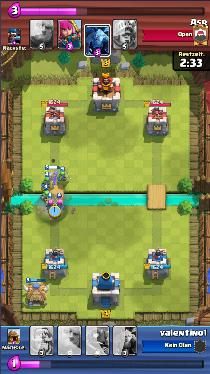ally_archer: (54, 198, 63, 211), (46, 200, 55, 212)
ally_goblin_hut: (22, 281, 51, 307)
ally_musketeer: (47, 170, 56, 185)
ally_spear_goblin: (40, 190, 50, 201), (60, 170, 70, 181), (43, 175, 52, 187)
